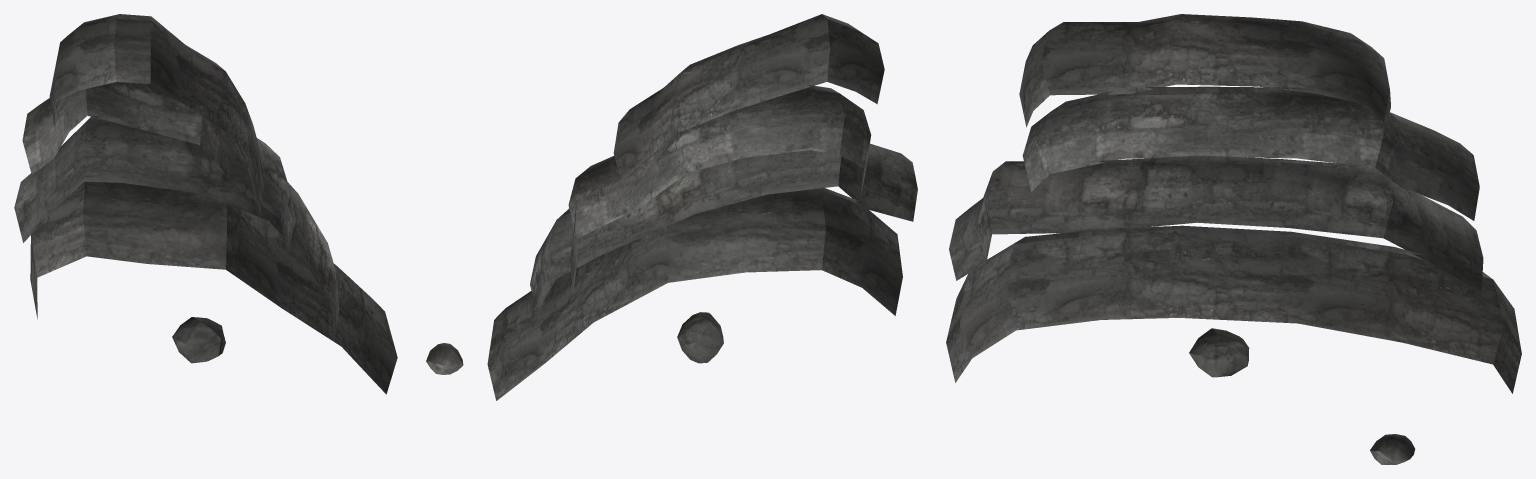
File: rock_wall.glb
The picture shows the model from 3 angles, left to right: view 1: azimuth 30°, elevation 25°; view 2: azimuth 150°, elevation 25°; view 3: azimuth 270°, elevation 25°; orthographic projection. The views are drawn at different scales.
Visible parts, largest first — view 1: root_mesh; view 2: root_mesh; view 3: root_mesh.
Boxes of the visible parts, x1,y1,x2,y2 form: root_mesh: (14,14,397,394); root_mesh: (426,14,917,400); root_mesh: (946,14,1521,464).
Bounding box in the file's own units: 0.9849 × 0.8815 × 1.46.
Materials: 1 (1 with a texture image).
